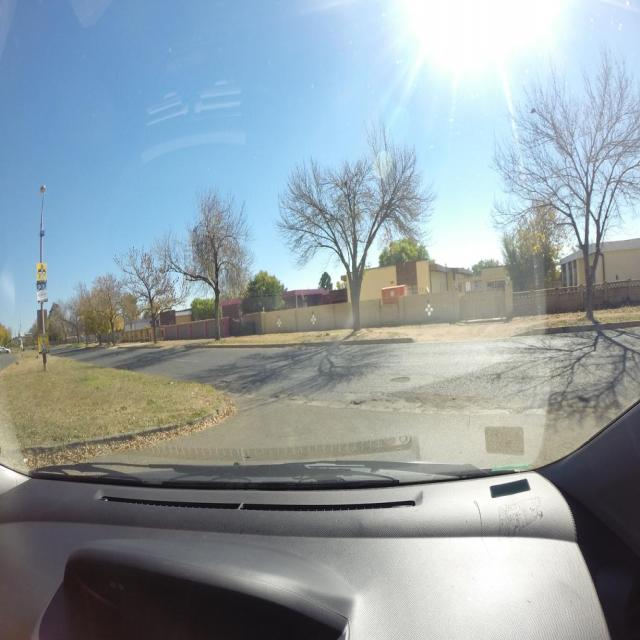Pothole: (350, 400, 368, 407), (392, 377, 410, 383), (270, 394, 279, 400), (219, 380, 231, 384)
